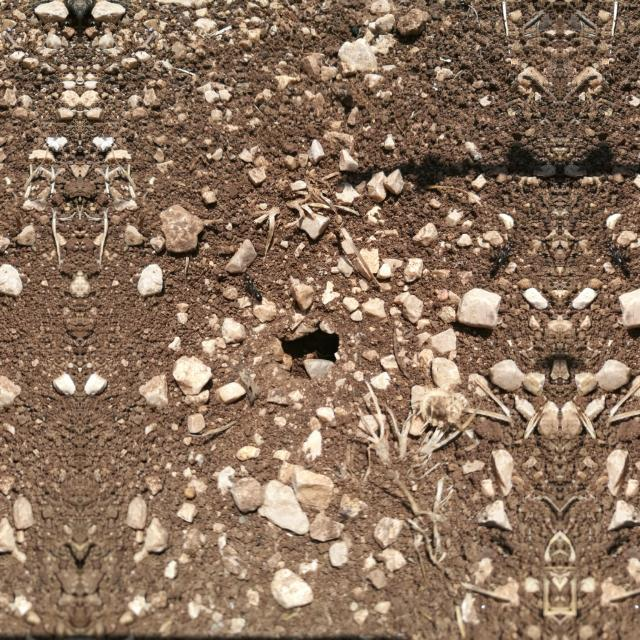Cataglyphis: (488, 232, 518, 274), (602, 232, 632, 274), (242, 268, 266, 306)
